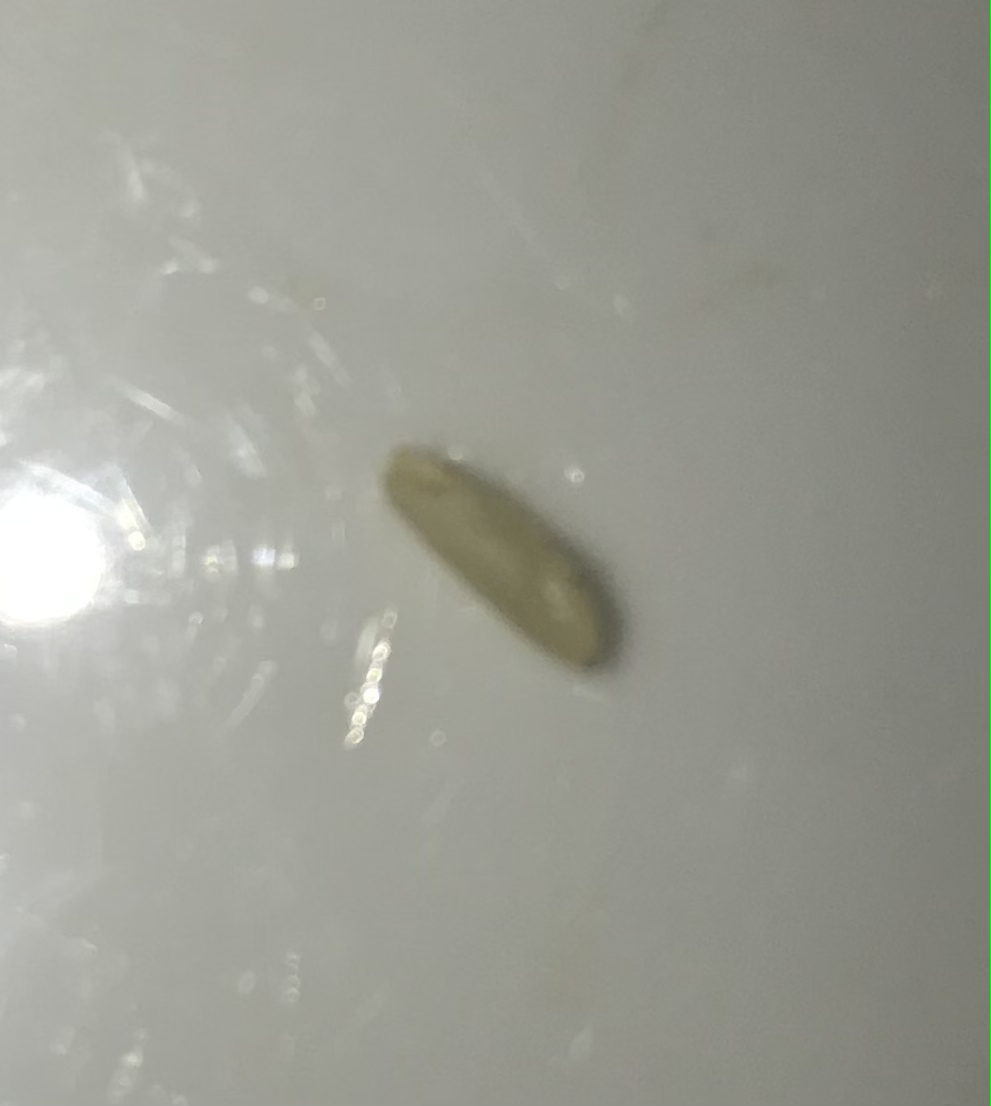Gao Lut Trang: (373, 427, 626, 682)
